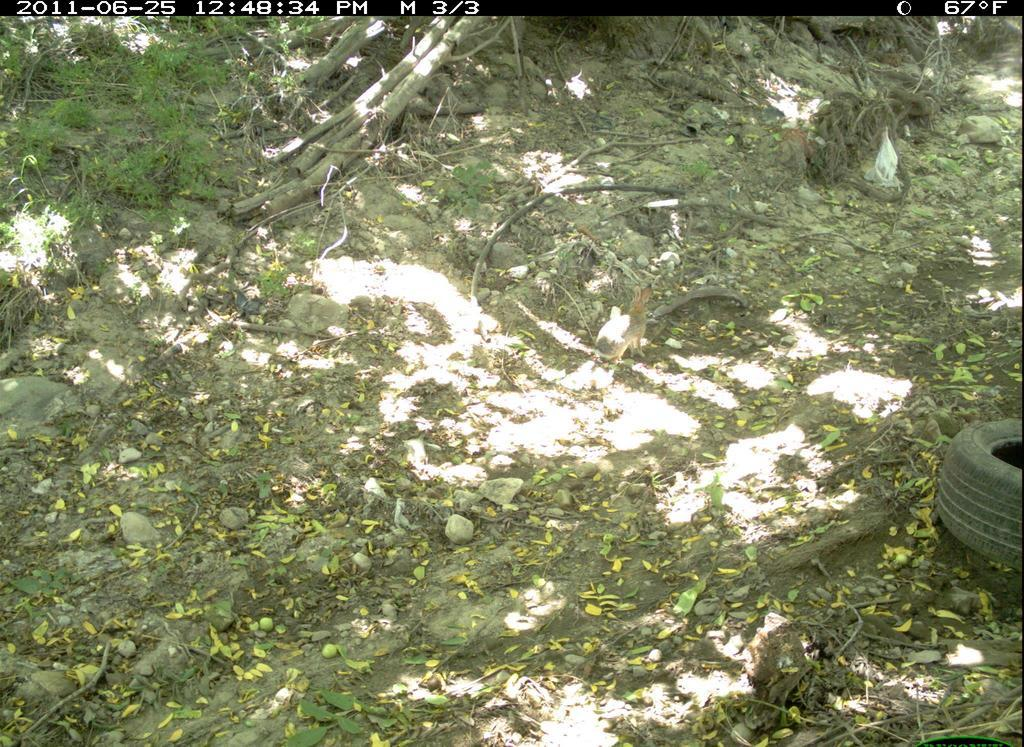rabbit: (585, 282, 658, 368)
